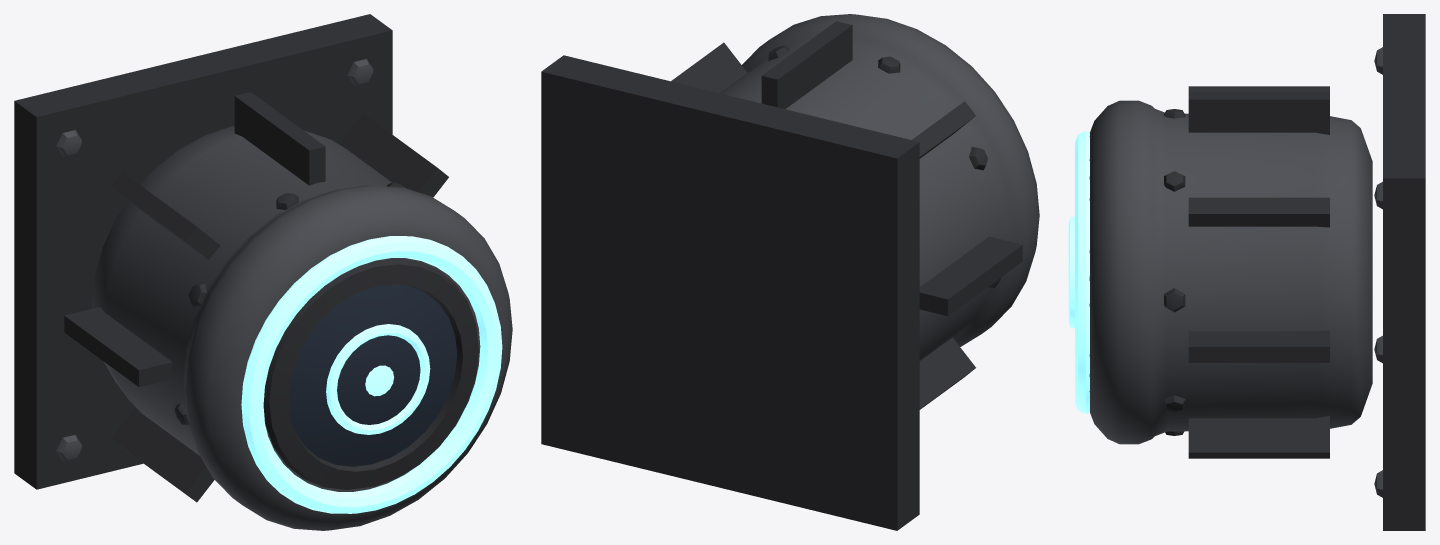
The model's file is Membrane_Anchor_A.glb.
3 renders of one model, left to right at view 1: azimuth 30°, elevation 25°; view 2: azimuth 150°, elevation 25°; view 3: azimuth 270°, elevation 25°, orthographic. The views are drawn at different scales.
Parts seen in each view (by area): view 1: Membrane_Anchor_A; view 2: Membrane_Anchor_A; view 3: Membrane_Anchor_A.
Boxes of the visible parts, x1,y1,x2,y2 form: Membrane_Anchor_A: [14, 14, 512, 530]; Membrane_Anchor_A: [541, 14, 1039, 530]; Membrane_Anchor_A: [1068, 14, 1425, 530].
Size of the model in its own units: 1.1 by 1.1 by 1.01.
